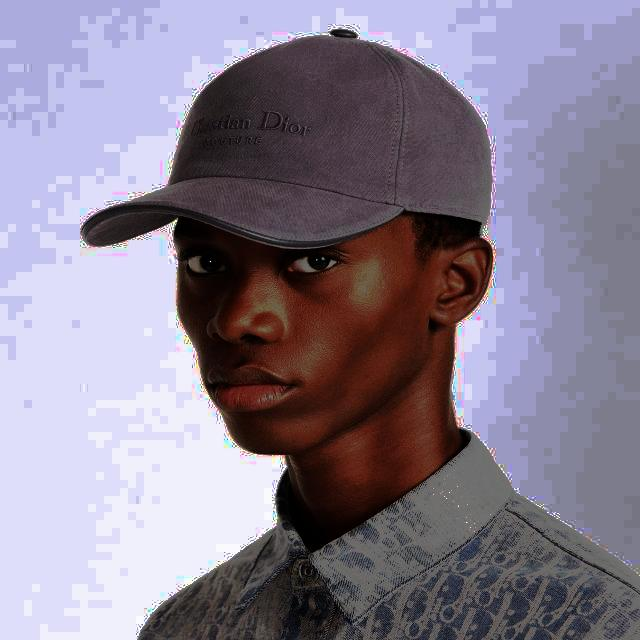TOPI: (80, 30, 492, 254)
